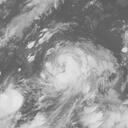cyclone: (43, 42, 110, 104)
